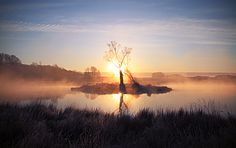mountain: (3, 100, 149, 147), (4, 61, 104, 87)
sea_river: (165, 77, 228, 109)
sky_cloud: (18, 15, 227, 58)
